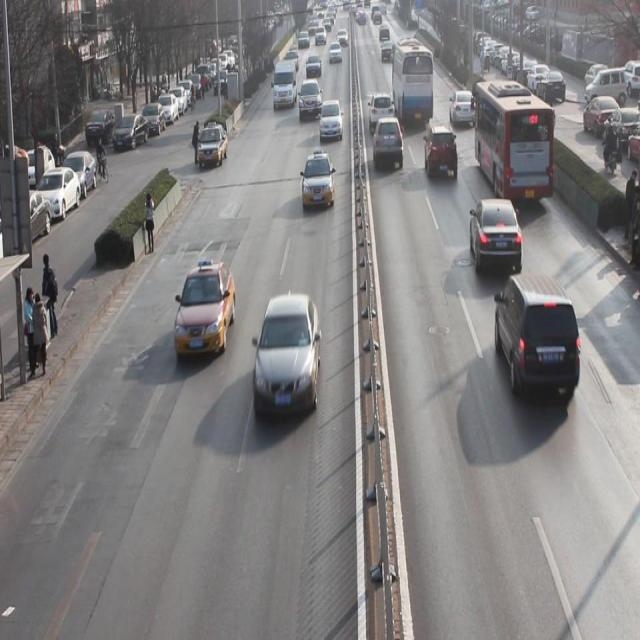car: (494, 271, 583, 408), (254, 298, 321, 419), (177, 264, 237, 365), (468, 193, 524, 278), (302, 149, 336, 215), (424, 124, 459, 182), (372, 115, 406, 169), (198, 123, 229, 165), (318, 99, 344, 144), (368, 91, 394, 134), (448, 86, 475, 125), (298, 78, 323, 120), (305, 52, 322, 77)
truck: (272, 60, 297, 112)
van: (474, 81, 553, 206), (391, 39, 434, 127)
